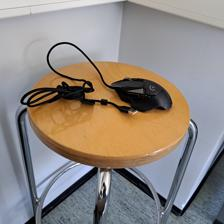mouse: (110, 76, 173, 113)
